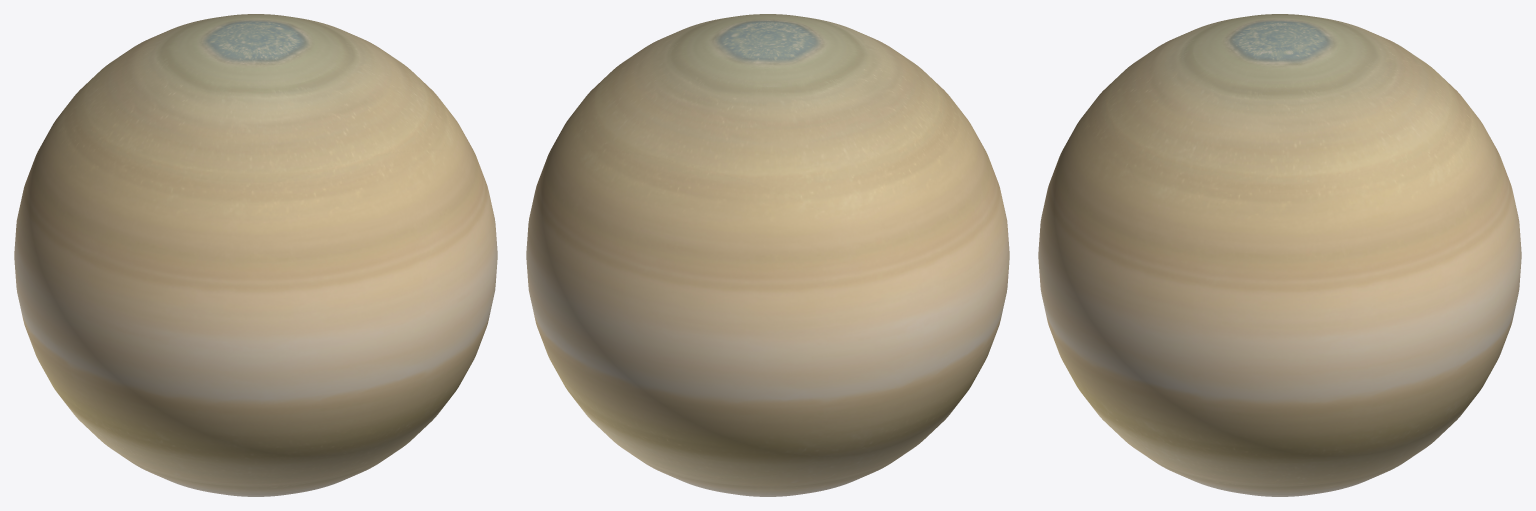
Rendered from mars.obj.
3 views of the same model, side by side, from view 1: azimuth 30°, elevation 25°; view 2: azimuth 150°, elevation 25°; view 3: azimuth 270°, elevation 25° (orthographic).
Parts seen in each view (by area): view 1: Sphere_Material.002_0_Sphere_Material.002_0.003; view 2: Sphere_Material.002_0_Sphere_Material.002_0.003; view 3: Sphere_Material.002_0_Sphere_Material.002_0.003.
Part boxes in pixels (box(x1,y1,x2,y2)): Sphere_Material.002_0_Sphere_Material.002_0.003: box(14, 14, 497, 496); Sphere_Material.002_0_Sphere_Material.002_0.003: box(526, 14, 1009, 496); Sphere_Material.002_0_Sphere_Material.002_0.003: box(1038, 14, 1521, 496).
Size of the model in its own units: 200 by 200 by 200.
